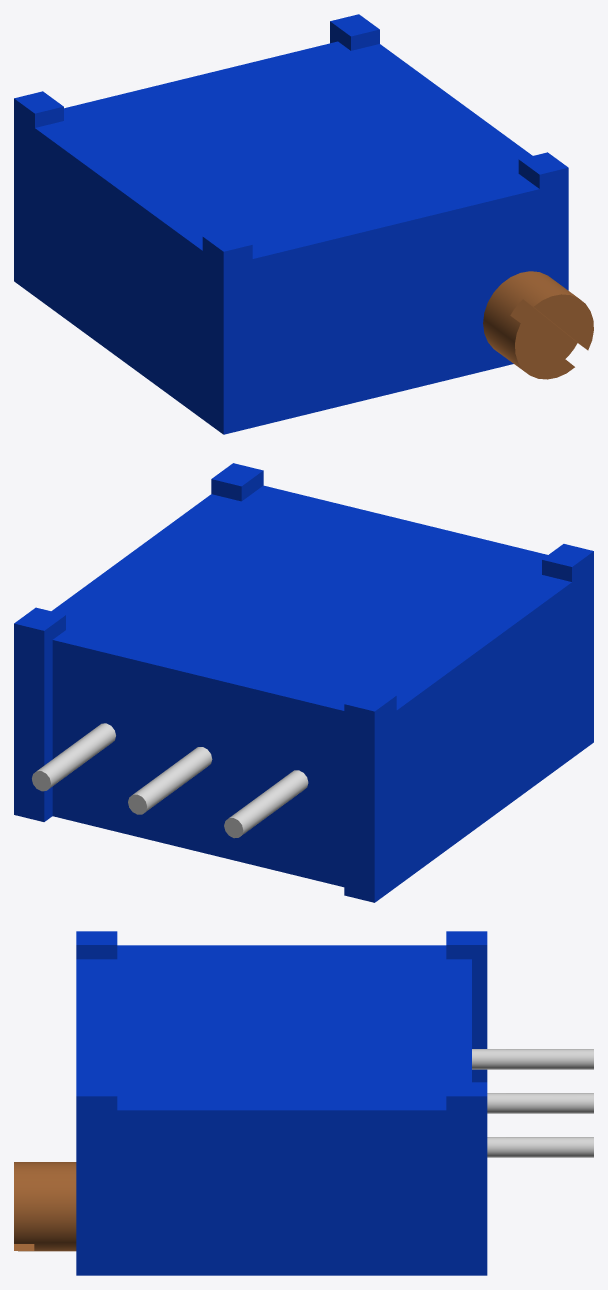
The model's file is Trimpot Rectangle.obj.
3 renders of one model, top to bottom at view 1: azimuth 30°, elevation 25°; view 2: azimuth 150°, elevation 25°; view 3: azimuth 270°, elevation 25°, orthographic. The views are drawn at different scales.
Parts seen in each view (by area): view 1: Solid1; view 2: Solid1; view 3: Solid1.
Part boxes in pixels (left/top/right/bottom): Solid1: left=14, top=14, right=593, bottom=434; Solid1: left=14, top=463, right=593, bottom=902; Solid1: left=14, top=931, right=593, bottom=1275.
Size of the model in its own units: 9.53 by 4.83 by 14.15.
